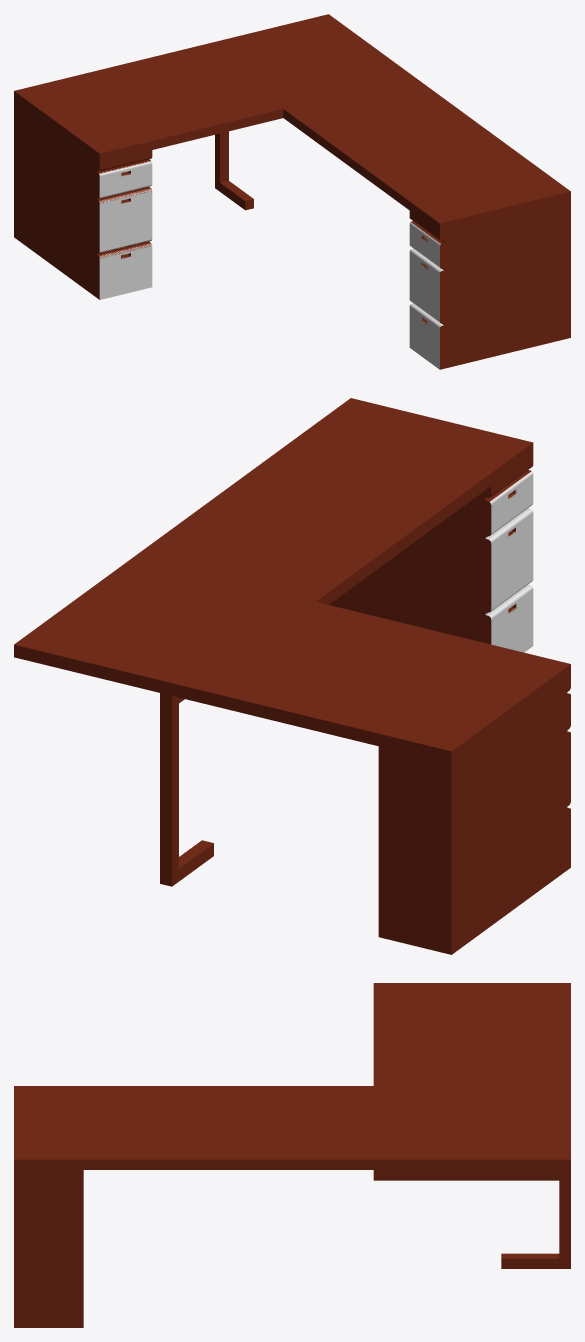
Rendered from desk.dae.
3 renders of one model, top to bottom at view 1: azimuth 30°, elevation 25°; view 2: azimuth 150°, elevation 25°; view 3: azimuth 270°, elevation 25°, orthographic. The views are drawn at different scales.
Visible parts, largest first — view 1: corner_desk; view 2: corner_desk; view 3: corner_desk.
Part boxes in pixels (x1,y1,x2,y2): corner_desk: (14, 14, 570, 369); corner_desk: (14, 398, 570, 954); corner_desk: (14, 983, 570, 1327).
Bounding box in the file's own units: 1.83 × 2.44 × 0.8128.
